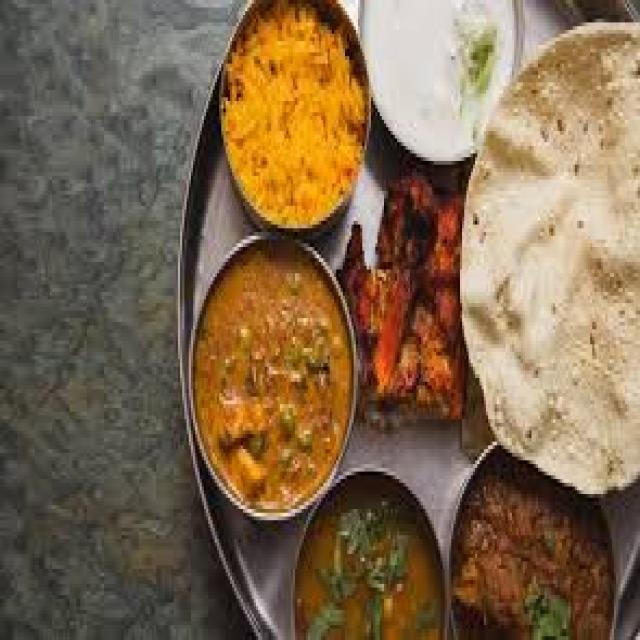curd: (354, 0, 522, 164)
dal: (218, 12, 359, 229)
papad: (454, 35, 640, 463)
roti: (456, 34, 637, 474)
veg-fry: (191, 239, 355, 521), (219, 11, 360, 230)
